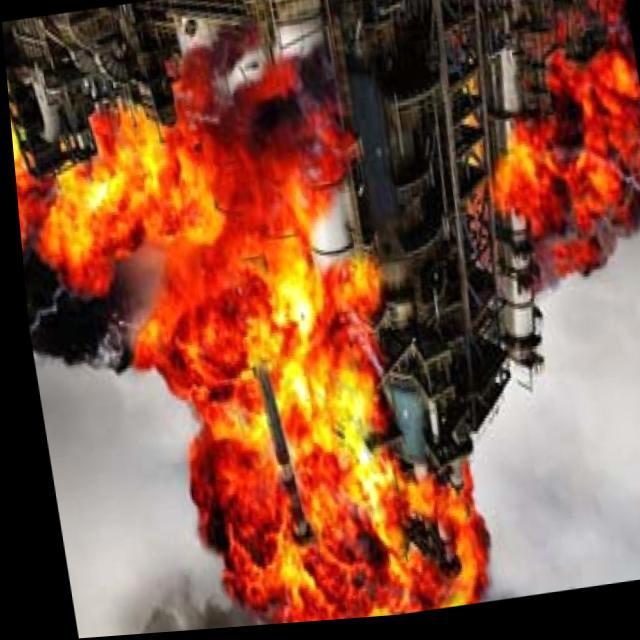fire: (160, 284, 456, 632), (5, 52, 232, 312), (448, 28, 640, 304)
